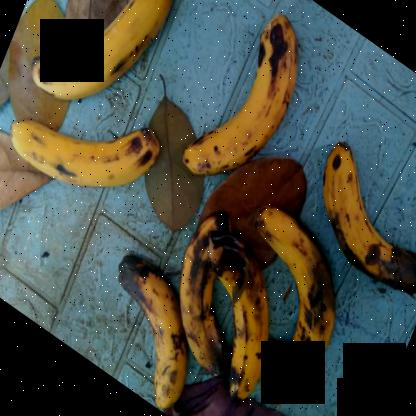overripe: (180, 1, 308, 182)
ripe: (25, 1, 176, 109), (0, 112, 166, 205)
rotten: (240, 191, 340, 373), (102, 237, 198, 415), (318, 138, 416, 300), (162, 196, 240, 388), (213, 228, 274, 415)
